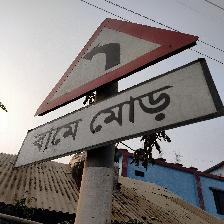Left-Turn: (16, 18, 222, 167)
